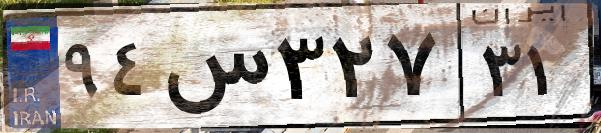1: (525, 38, 570, 115)
2: (330, 28, 385, 110)
3: (270, 28, 330, 110), (475, 38, 525, 113)
4: (110, 28, 158, 98)
7: (385, 28, 445, 110)
9: (57, 26, 110, 100)
س: (158, 20, 270, 120)
